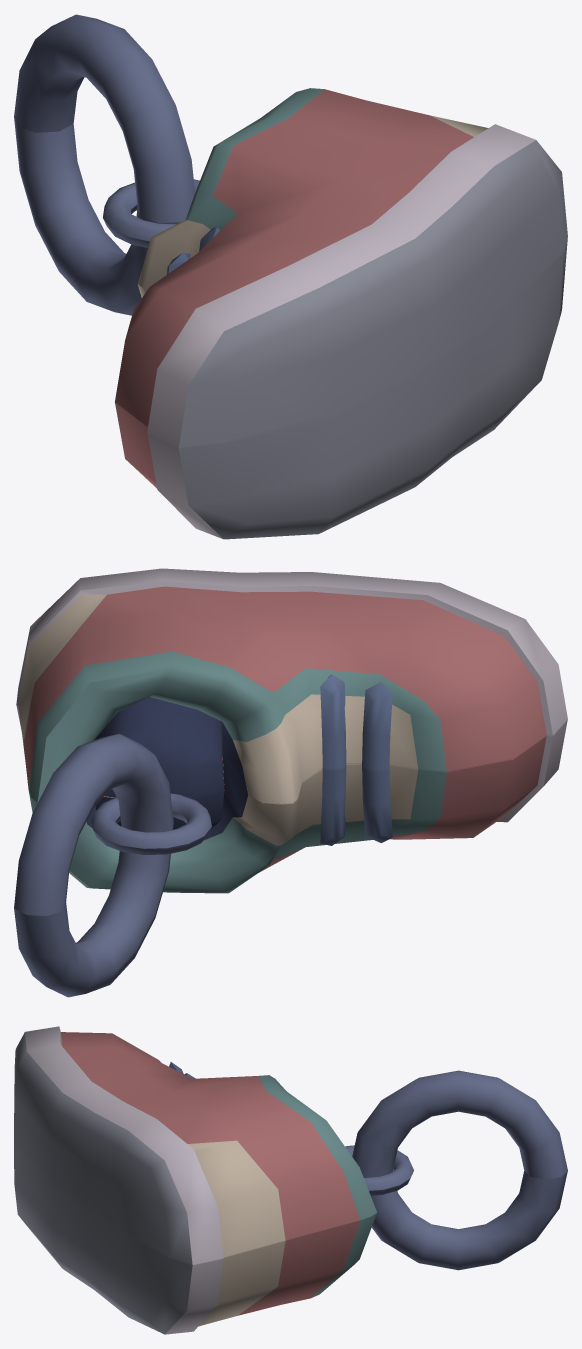
The model's file is charm_speed_empty.fbx.
3 views of the same model, one above another, from view 1: azimuth 30°, elevation 25°; view 2: azimuth 150°, elevation 25°; view 3: azimuth 270°, elevation 25° (orthographic). The views are drawn at different scales.
Visible parts, largest first — view 1: charm_speed_empty; view 2: charm_speed_empty; view 3: charm_speed_empty.
Boxes of the visible parts, <box> form: charm_speed_empty: <box>14,14,567,539</box>; charm_speed_empty: <box>14,568,567,997</box>; charm_speed_empty: <box>14,1026,567,1334</box>.
Size of the model in its own units: 1.96 by 1.01 by 2.57.
